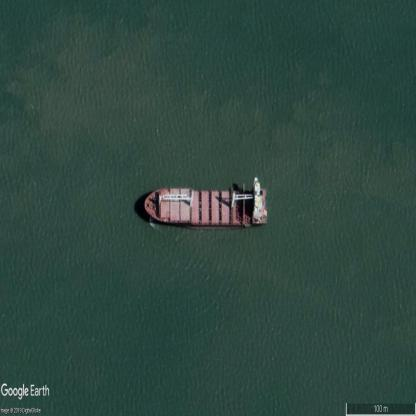ship: (145, 179, 267, 227)
